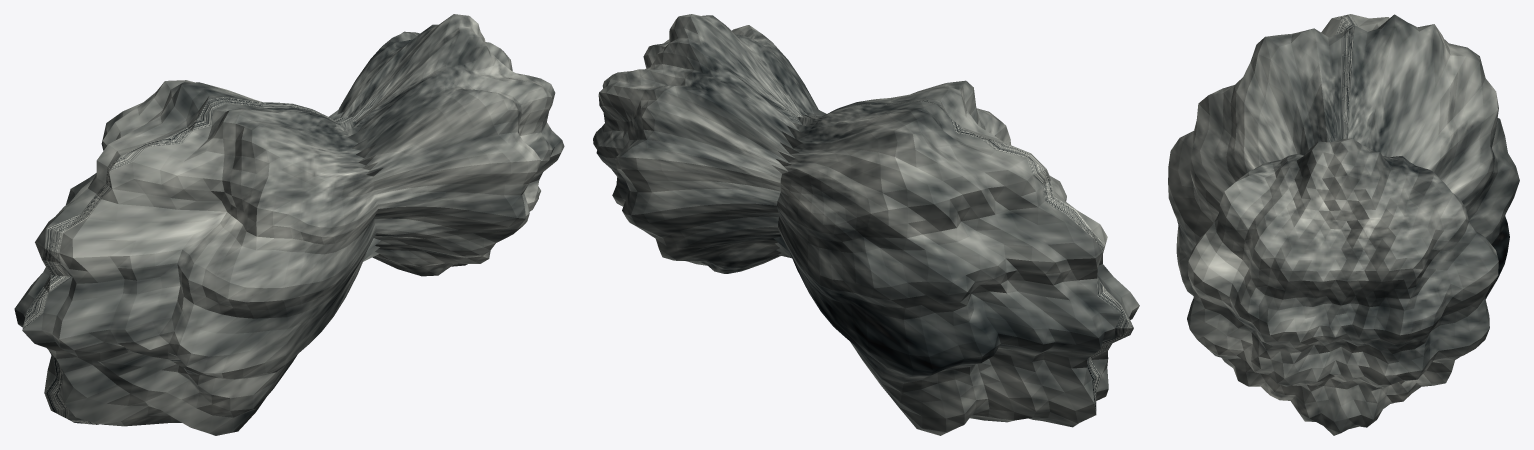
File: saddle.glb
3 views of the same model, side by side, from view 1: azimuth 30°, elevation 25°; view 2: azimuth 150°, elevation 25°; view 3: azimuth 270°, elevation 25° (orthographic). The views are drawn at different scales.
Visible parts, largest first — view 1: rock; view 2: rock; view 3: rock.
Boxes of the visible parts, x1=… form: rock: x1=14, y1=14, x2=564, y2=435; rock: x1=593, y1=14, x2=1139, y2=435; rock: x1=1168, y1=14, x2=1519, y2=435.
Bounding box in the file's own units: 25.99 × 15.69 × 12.77.
1 material, 1 textured.
